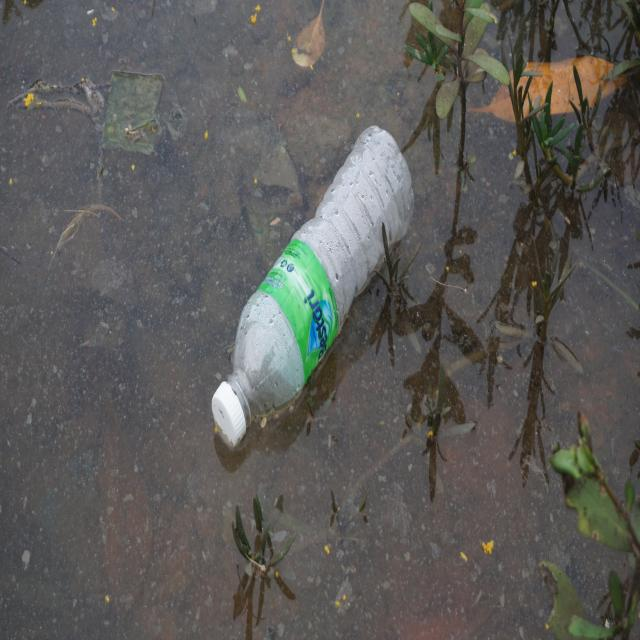Botol Plastik: (204, 110, 418, 466)
